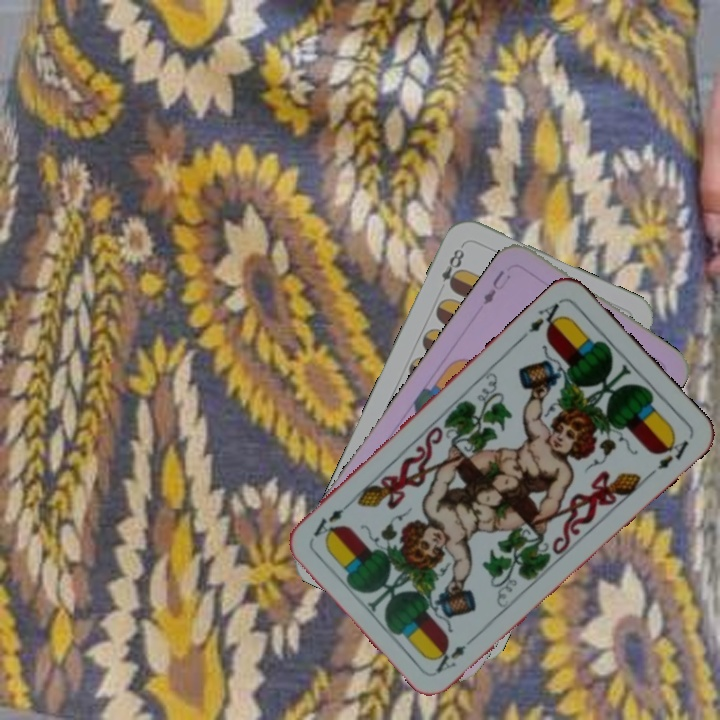E8: (437, 241, 467, 293)
EA: (430, 631, 479, 676), (524, 296, 568, 336)
EU: (475, 265, 514, 312)
